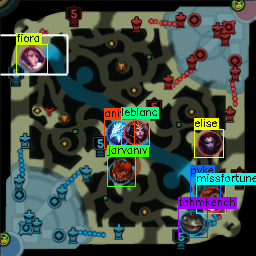anivia: (106, 121, 131, 146)
elise: (196, 131, 222, 156)
fiora: (20, 45, 44, 70)
jarvaniv: (108, 159, 131, 183)
leblanc: (122, 119, 148, 145)
missfortune: (199, 187, 223, 212)
pyke: (192, 177, 218, 201)
tahmkench: (179, 209, 204, 235)
